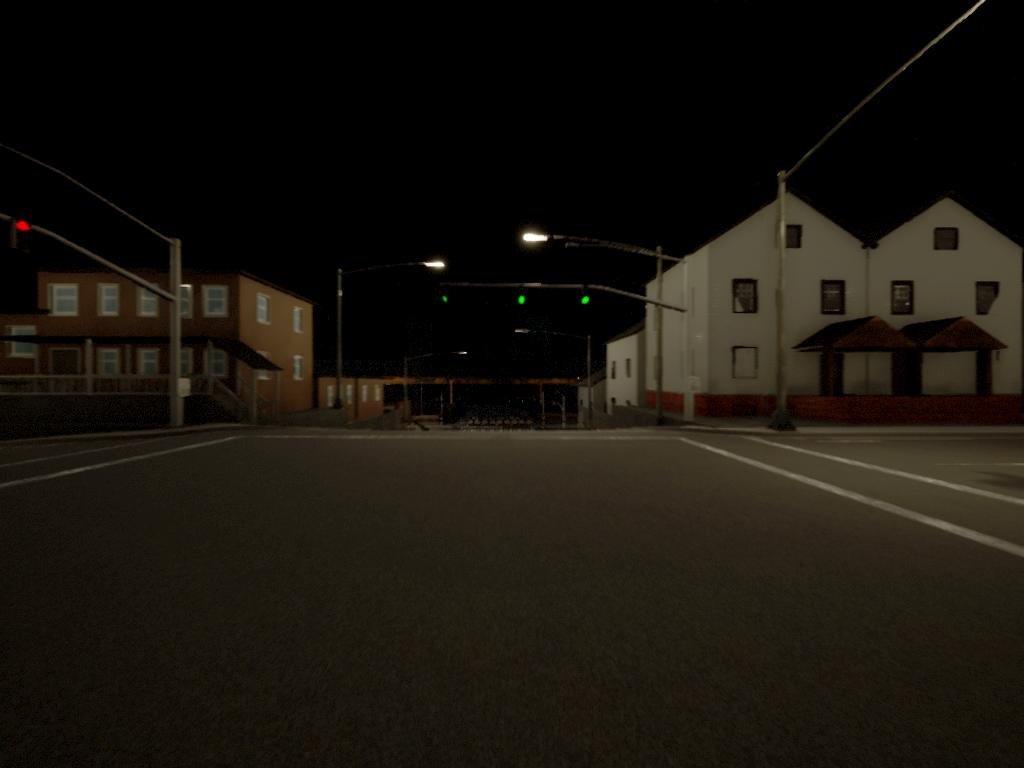traffic_light: (16, 221, 38, 256), (516, 289, 529, 311), (442, 287, 453, 309), (582, 290, 592, 311)
